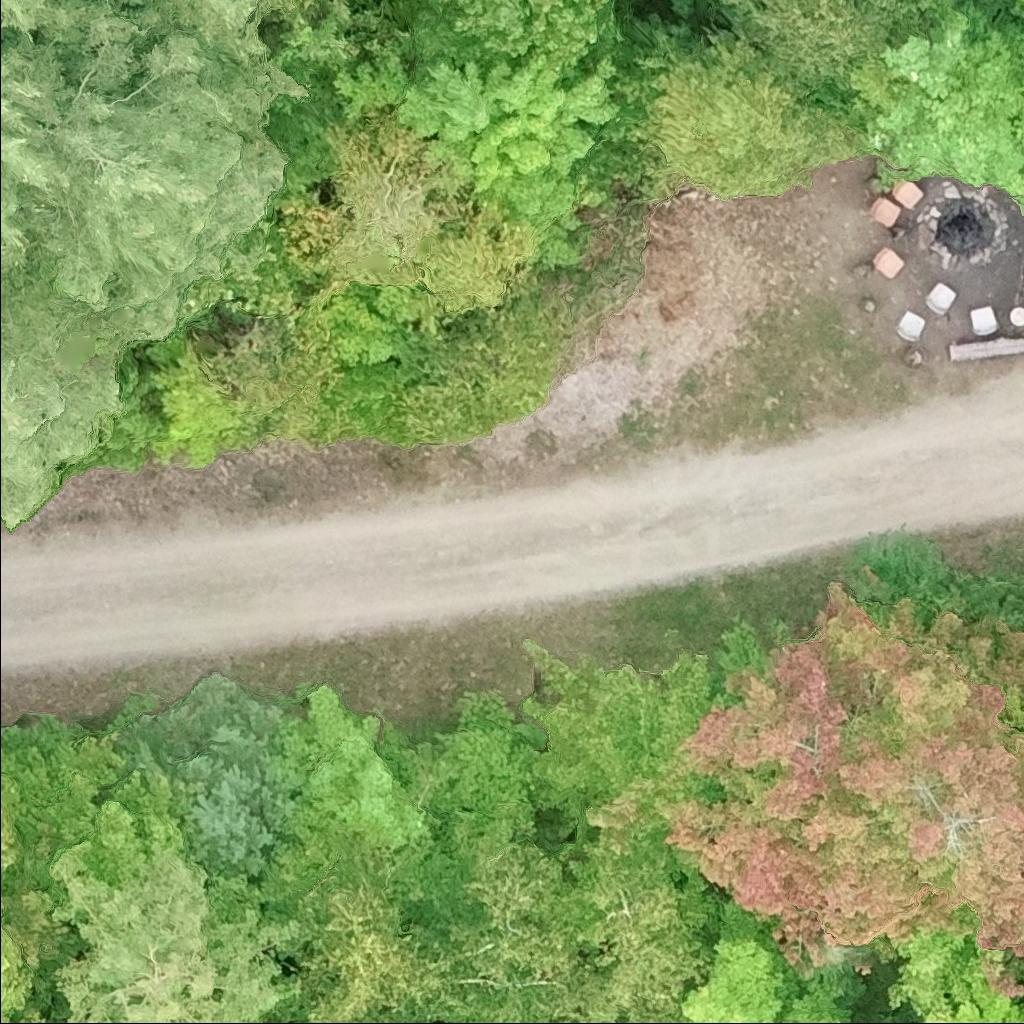crown: (652, 579, 1023, 999), (14, 0, 312, 314), (331, 43, 623, 267), (265, 114, 542, 313), (0, 249, 175, 525), (521, 633, 732, 858), (623, 26, 867, 198), (839, 0, 1023, 220), (438, 830, 619, 1023), (135, 669, 292, 878), (0, 723, 135, 961), (562, 833, 726, 1023), (275, 878, 476, 1023), (266, 684, 437, 854), (0, 22, 107, 265), (704, 0, 931, 106), (682, 891, 855, 1023), (381, 0, 622, 80), (79, 765, 189, 888), (0, 763, 36, 1023), (0, 0, 94, 53), (921, 983, 1023, 1023), (435, 992, 538, 1023), (7, 1004, 48, 1023), (261, 1019, 275, 1023)
